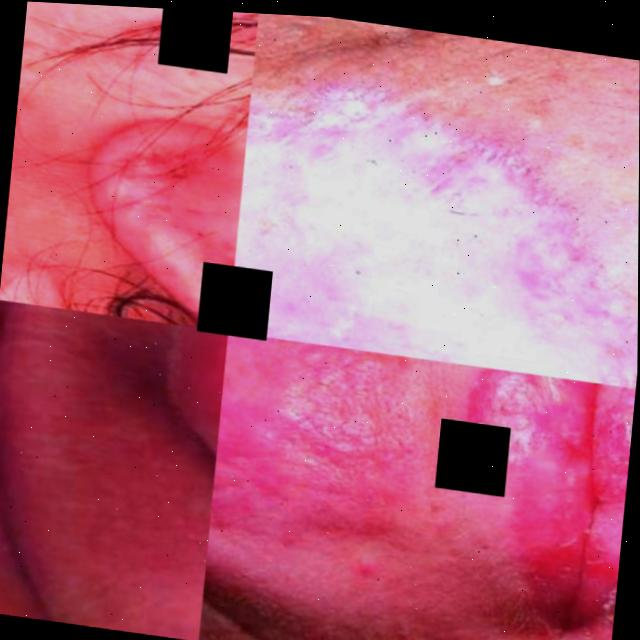lupus-detected: (227, 45, 640, 388), (445, 364, 635, 640), (205, 330, 353, 590), (412, 28, 640, 125), (431, 361, 559, 514), (0, 213, 108, 314)
